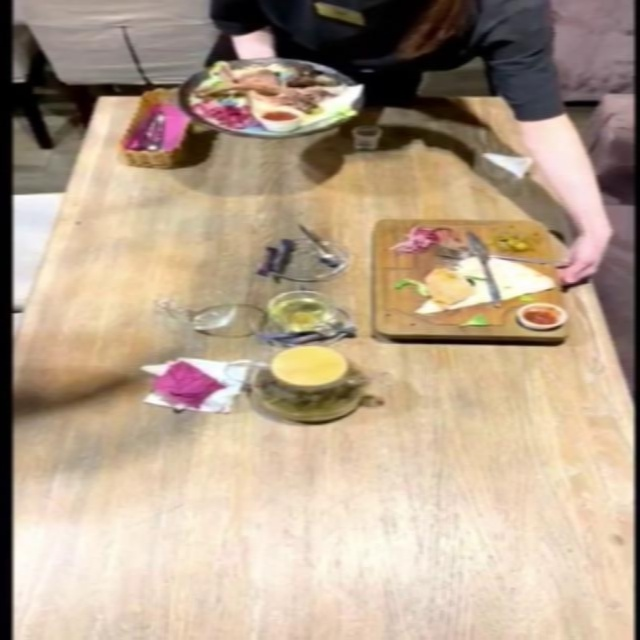meat: (362, 212, 571, 350), (188, 61, 356, 135)
tea: (220, 348, 376, 419)
